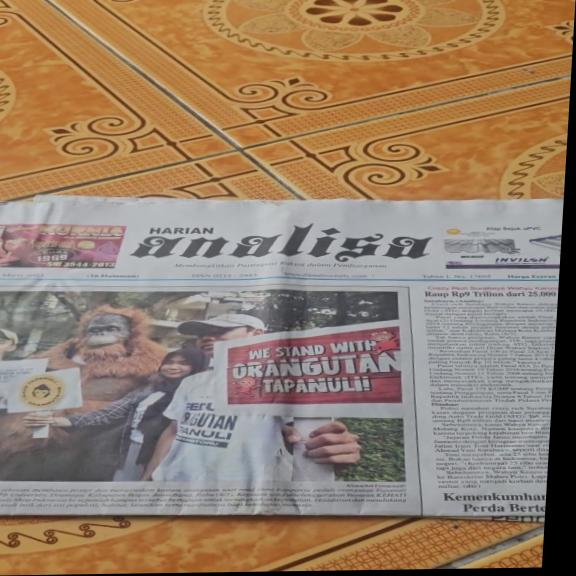Kertas: (0, 204, 550, 514)
